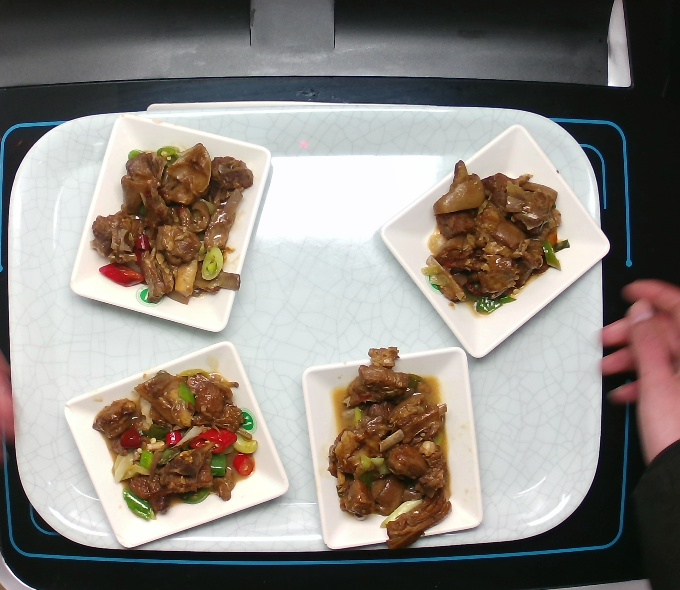wcq-YangRou: (86, 142, 256, 305), (91, 367, 259, 523), (325, 344, 452, 547), (422, 159, 570, 315)
